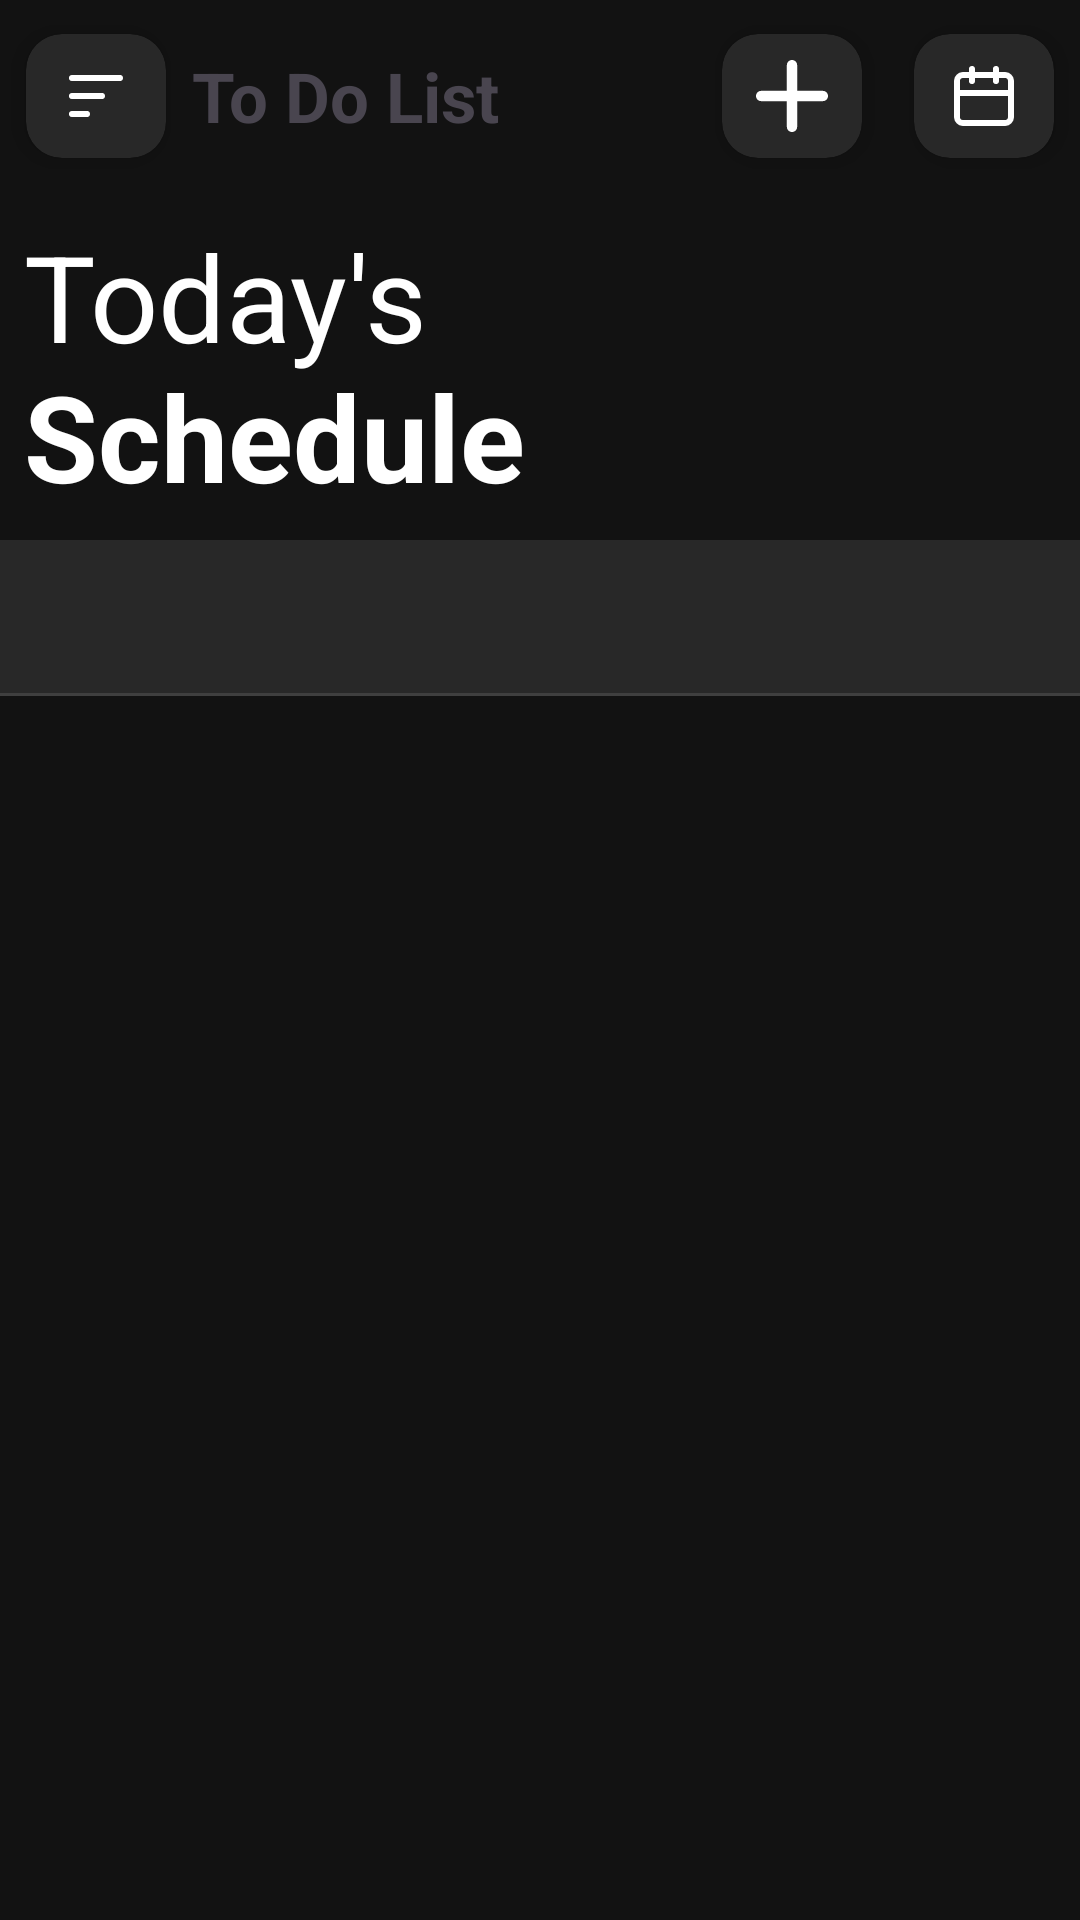

Named icons in this screenshot (1080*1920) and their bounding boxes, BBox(x1, y1, x2, y2):
add: BBox(756, 60, 828, 132)
calender: BBox(954, 66, 1014, 126)
menu: BBox(69, 75, 123, 117)
